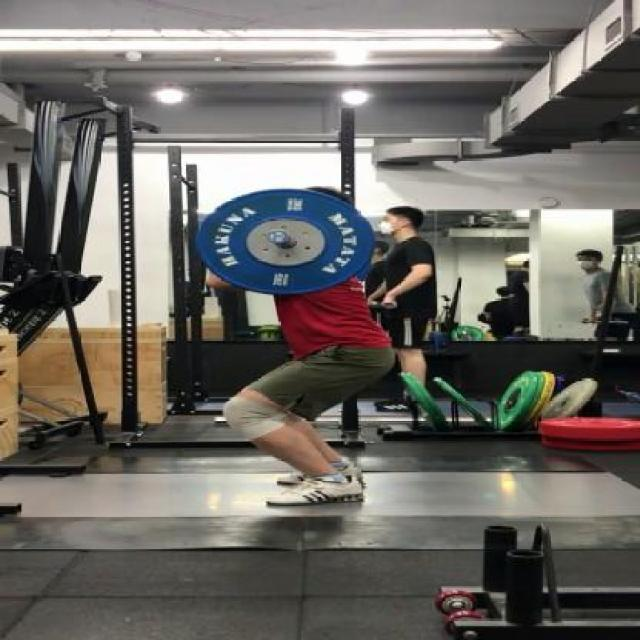Barbell: (263, 227, 294, 246)
